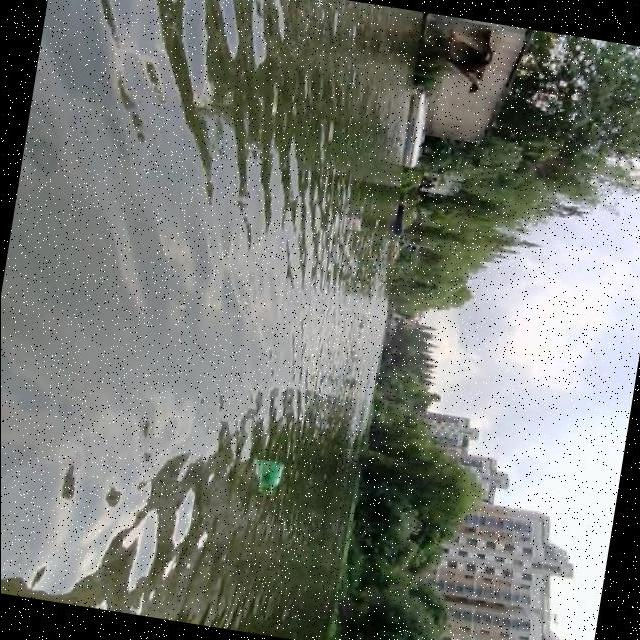Bottle: (253, 454, 287, 504)
